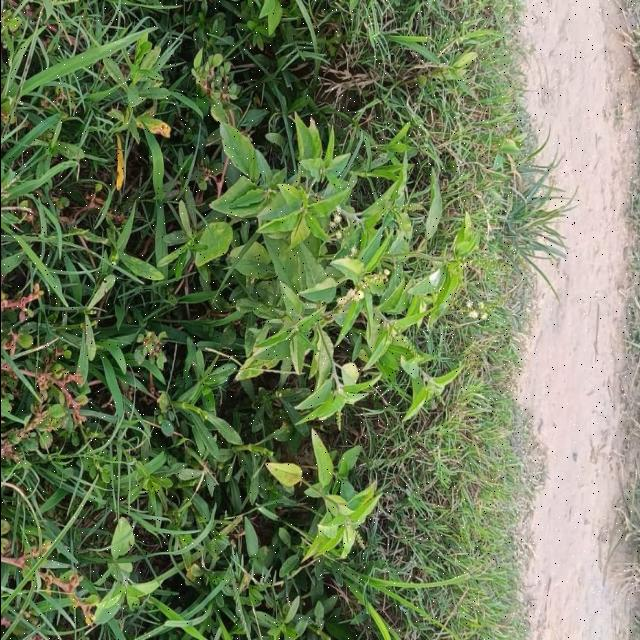weed: (185, 114, 477, 426), (210, 115, 476, 425), (264, 431, 379, 562), (265, 431, 379, 562)
